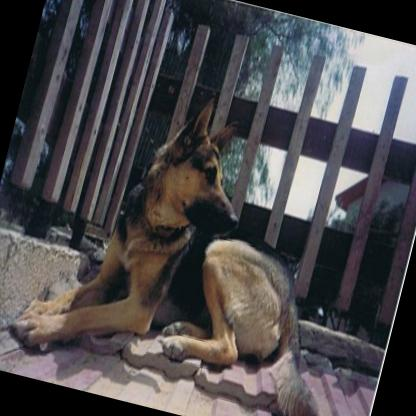German_shepherd: (0, 60, 400, 416)
